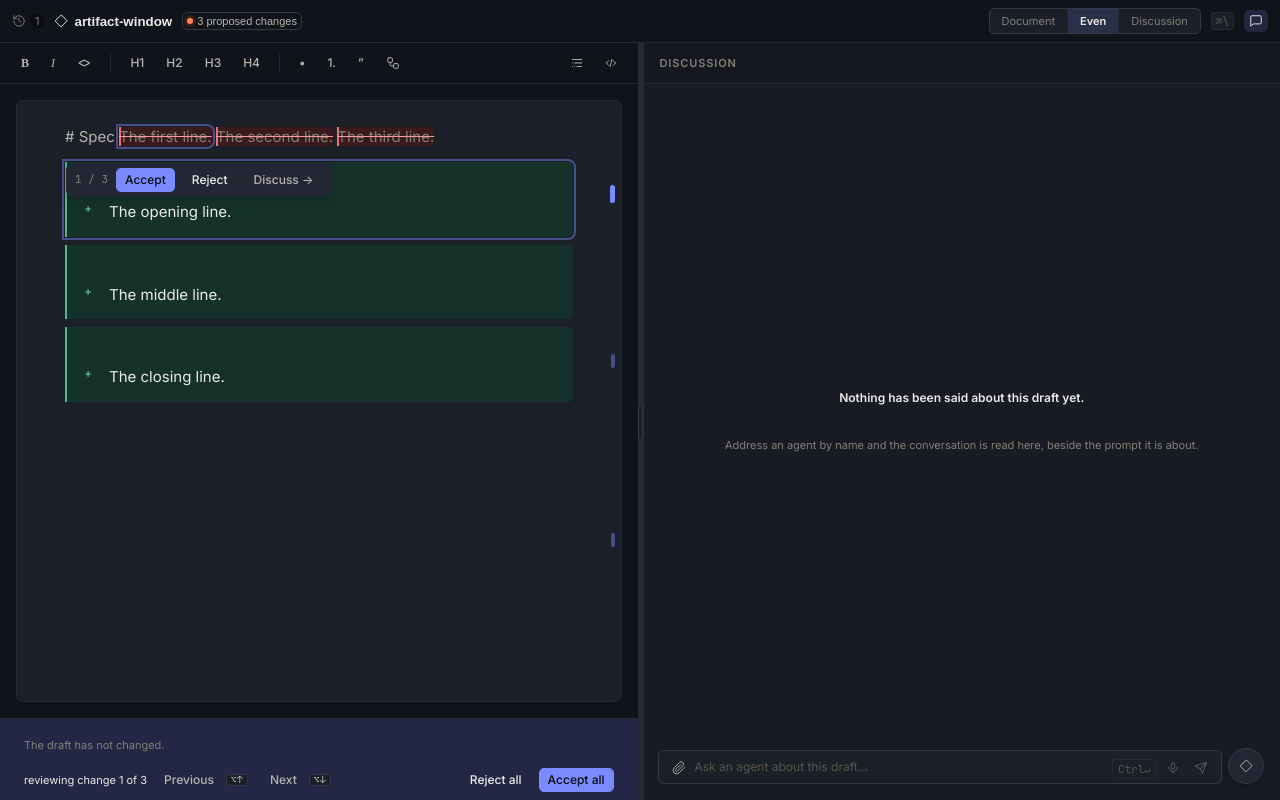
Test: the whole-proposal actions (DCR-FR-CXZG) › DCR-FR-CXZG: Accept all walks the changes in order and stops at the first refusal
Click the button "Accept all" at (576, 780), box [539,768,614,792]
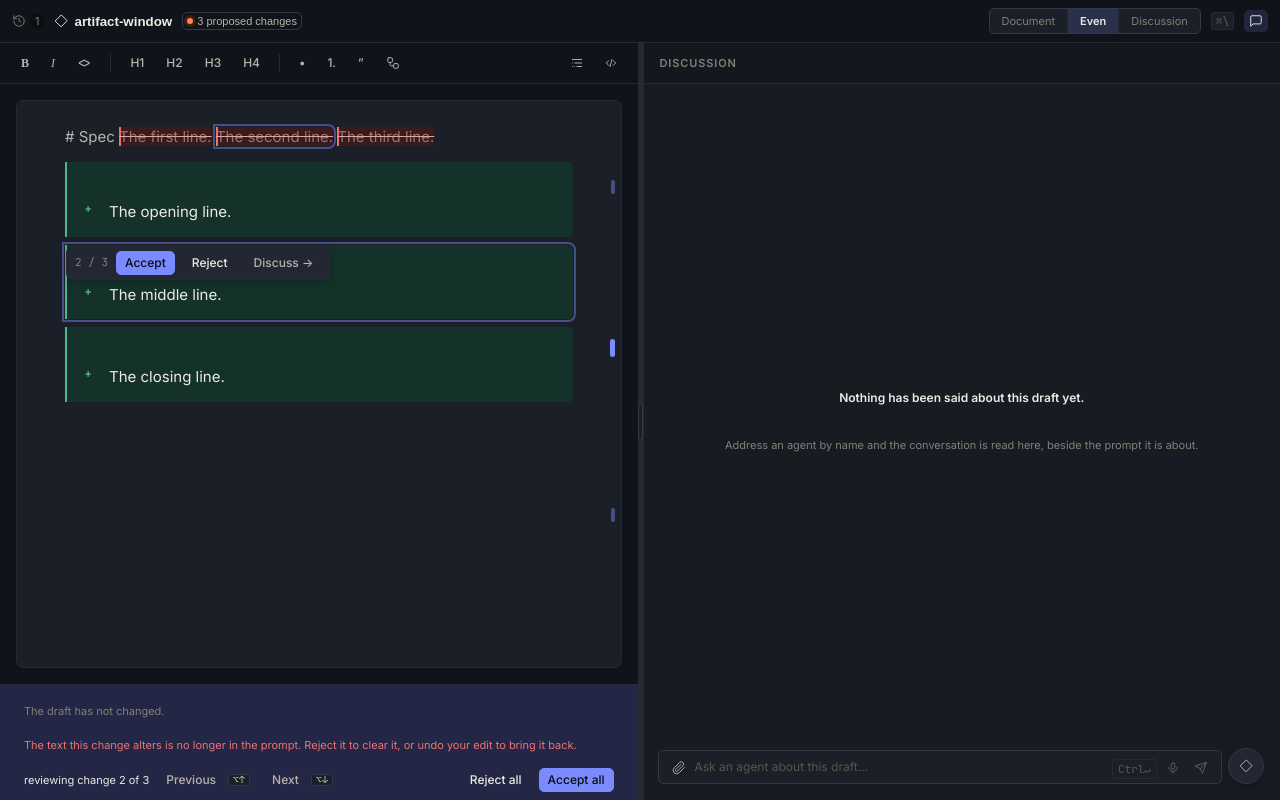
Now the 2nd message shows "no longer in the prompt", box [24,738,577,752]
